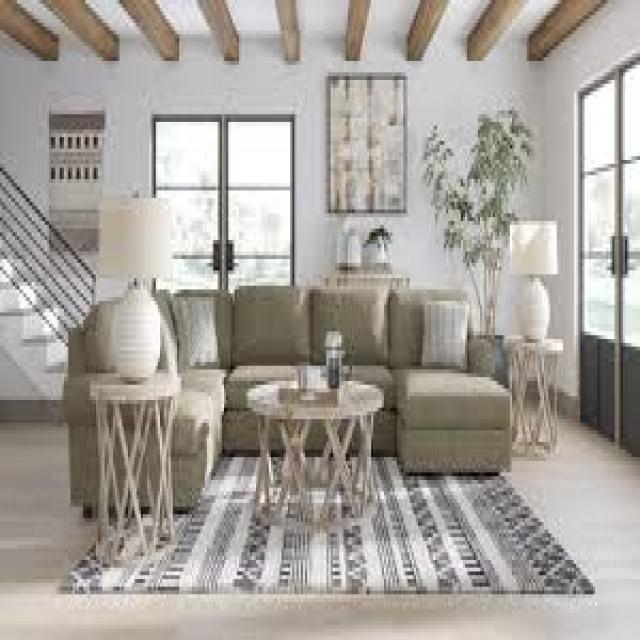Lamp: (93, 194, 179, 378), (509, 210, 555, 338)
Sofa: (71, 275, 516, 498)
Table: (245, 387, 386, 515)
